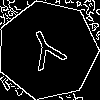Y: (22, 25, 72, 80)
